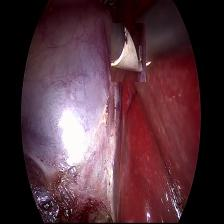Hook: (111, 23, 146, 82)
